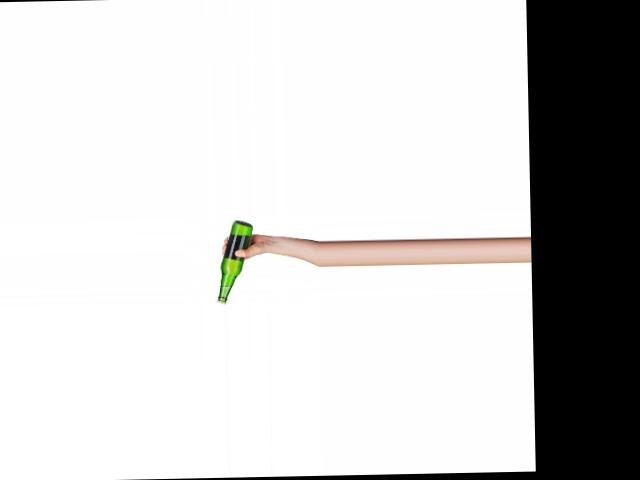beer: (216, 219, 254, 304)
